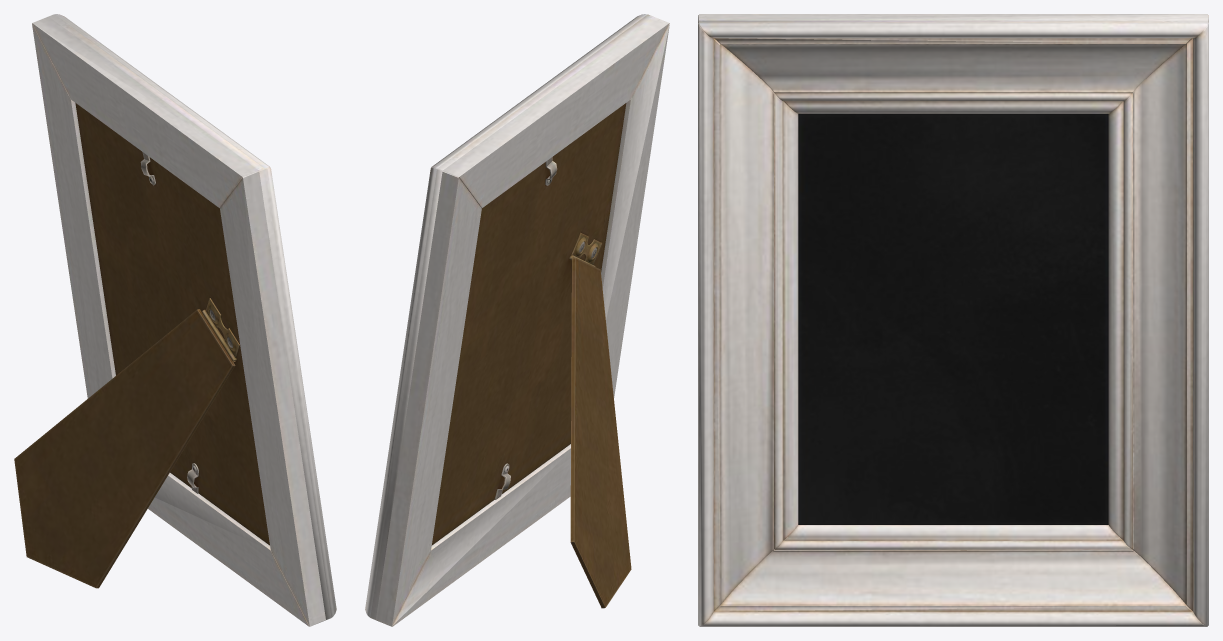
File: standing_picture_frame_02.glb
The picture shows the model from 3 angles, left to right: view 1: azimuth 30°, elevation 25°; view 2: azimuth 150°, elevation 25°; view 3: azimuth 270°, elevation 25°; orthographic projection. The views are drawn at different scales.
Parts seen in each view (by area): view 1: standing_picture_frame_02; view 2: standing_picture_frame_02; view 3: standing_picture_frame_02.
Boxes of the visible parts, x1,y1,x2,y2 form: standing_picture_frame_02: [14, 14, 336, 626]; standing_picture_frame_02: [365, 14, 669, 626]; standing_picture_frame_02: [698, 14, 1208, 626].
Bounding box in the file's own units: 0.1023 × 0.2664 × 0.2169.
3 materials, 3 textured.
